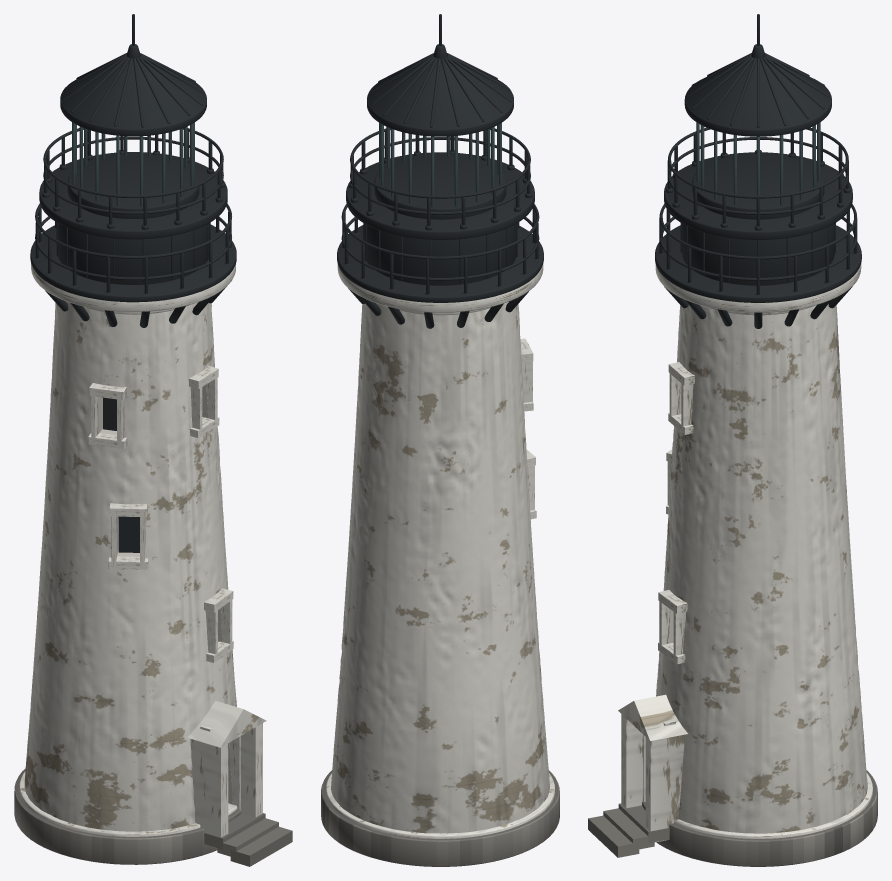
File: atlantic-lighthouse-tower.glb
The picture shows the model from 3 angles, left to right: view 1: azimuth 30°, elevation 25°; view 2: azimuth 150°, elevation 25°; view 3: azimuth 270°, elevation 25°; orthographic projection.
Parts seen in each view (by area): view 1: atlantic-lighthouse-tower/Whitewashed chipped masonry shell, atlantic-lighthouse-tower/Conical copper lantern roof, atlantic-lighthouse-tower/Foundation footing embedded in bed, atlantic-lighthouse-tower/Lantern plinth, atlantic-lighthouse-tower/Black iron watch room, atlantic-lighthouse-tower/Upper lantern gallery deck, atlantic-lighthouse-tower/Lower gallery iron lip, atlantic-lighthouse-tower/Stone entry pier, atlantic-lighthouse-tower/Stone cornice and stringcourse.002, atlantic-lighthouse-tower/Stone entry pier.001, atlantic-lighthouse-tower/Stone entry gabled canopy, atlantic-lighthouse-tower/Stone cornice and stringcourse (+10 smaller); view 2: atlantic-lighthouse-tower/Whitewashed chipped masonry shell, atlantic-lighthouse-tower/Foundation footing embedded in bed, atlantic-lighthouse-tower/Conical copper lantern roof, atlantic-lighthouse-tower/Lantern plinth, atlantic-lighthouse-tower/Black iron watch room, atlantic-lighthouse-tower/Upper lantern gallery deck, atlantic-lighthouse-tower/Lower gallery iron lip, atlantic-lighthouse-tower/Stone cornice and stringcourse.002, atlantic-lighthouse-tower/Stone cornice and stringcourse, atlantic-lighthouse-tower/Roof eave, atlantic-lighthouse-tower/Continuous iron gallery rail.002, atlantic-lighthouse-tower/Continuous iron gallery rail.003 (+2 smaller); view 3: atlantic-lighthouse-tower/Whitewashed chipped masonry shell, atlantic-lighthouse-tower/Foundation footing embedded in bed, atlantic-lighthouse-tower/Conical copper lantern roof, atlantic-lighthouse-tower/Lantern plinth, atlantic-lighthouse-tower/Black iron watch room, atlantic-lighthouse-tower/Upper lantern gallery deck, atlantic-lighthouse-tower/Lower gallery iron lip, atlantic-lighthouse-tower/Stone entry pier.001, atlantic-lighthouse-tower/Stone cornice and stringcourse.002, atlantic-lighthouse-tower/Stone entry pier, atlantic-lighthouse-tower/Stone entry gabled canopy, atlantic-lighthouse-tower/Stone cornice and stringcourse (+8 smaller).
Boxes of the visible parts, x1,y1,x2,y2 form: atlantic-lighthouse-tower/Whitewashed chipped masonry shell: [24, 301, 236, 831]; atlantic-lighthouse-tower/Conical copper lantern roof: [61, 60, 205, 128]; atlantic-lighthouse-tower/Foundation footing embedded in bed: [14, 768, 241, 864]; atlantic-lighthouse-tower/Lantern plinth: [67, 153, 199, 218]; atlantic-lighthouse-tower/Black iron watch room: [58, 223, 209, 284]; atlantic-lighthouse-tower/Upper lantern gallery deck: [39, 152, 227, 239]; atlantic-lighthouse-tower/Lower gallery iron lip: [30, 224, 236, 302]; atlantic-lighthouse-tower/Stone entry pier: [190, 739, 228, 848]; atlantic-lighthouse-tower/Stone cornice and stringcourse.002: [31, 263, 235, 311]; atlantic-lighthouse-tower/Stone entry pier.001: [240, 723, 262, 817]; atlantic-lighthouse-tower/Stone entry gabled canopy: [187, 700, 266, 747]; atlantic-lighthouse-tower/Stone cornice and stringcourse: [19, 771, 237, 836]; atlantic-lighthouse-tower/Whitewashed chipped masonry shell: [331, 301, 549, 833]; atlantic-lighthouse-tower/Foundation footing embedded in bed: [321, 770, 559, 866]; atlantic-lighthouse-tower/Conical copper lantern roof: [368, 60, 513, 129]; atlantic-lighthouse-tower/Lantern plinth: [374, 153, 506, 219]; atlantic-lighthouse-tower/Black iron watch room: [364, 223, 516, 285]; atlantic-lighthouse-tower/Upper lantern gallery deck: [346, 152, 534, 239]; atlantic-lighthouse-tower/Lower gallery iron lip: [337, 225, 543, 302]; atlantic-lighthouse-tower/Stone cornice and stringcourse.002: [337, 264, 543, 312]; atlantic-lighthouse-tower/Stone cornice and stringcourse: [326, 773, 554, 838]; atlantic-lighthouse-tower/Roof eave: [367, 82, 513, 136]; atlantic-lighthouse-tower/Continuous iron gallery rail.002: [350, 137, 530, 214]; atlantic-lighthouse-tower/Continuous iron gallery rail.003: [350, 128, 530, 198]; atlantic-lighthouse-tower/Whitewashed chipped masonry shell: [656, 304, 867, 833]; atlantic-lighthouse-tower/Foundation footing embedded in bed: [642, 770, 877, 866]; atlantic-lighthouse-tower/Conical copper lantern roof: [685, 60, 830, 129]; atlantic-lighthouse-tower/Lantern plinth: [692, 153, 824, 219]; atlantic-lighthouse-tower/Black iron watch room: [682, 223, 834, 285]; atlantic-lighthouse-tower/Upper lantern gallery deck: [664, 152, 852, 239]; atlantic-lighthouse-tower/Lower gallery iron lip: [655, 225, 861, 302]; atlantic-lighthouse-tower/Stone entry pier.001: [645, 734, 685, 842]; atlantic-lighthouse-tower/Stone cornice and stringcourse.002: [655, 264, 861, 312]; atlantic-lighthouse-tower/Stone entry pier: [621, 714, 643, 808]; atlantic-lighthouse-tower/Stone entry gabled canopy: [618, 694, 687, 740]; atlantic-lighthouse-tower/Stone cornice and stringcourse: [674, 773, 872, 838].
Bounding box in the file's own units: 3.44 × 12.75 × 4.17.
12 materials, 1 textured.
